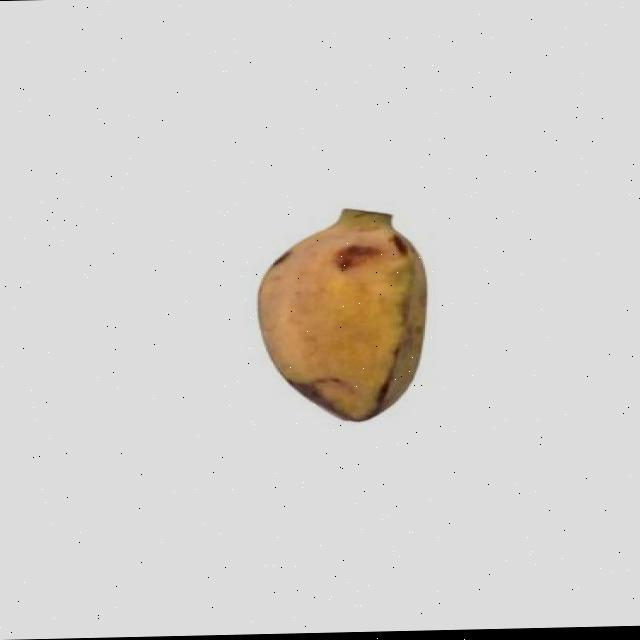banana: (249, 202, 440, 425)
